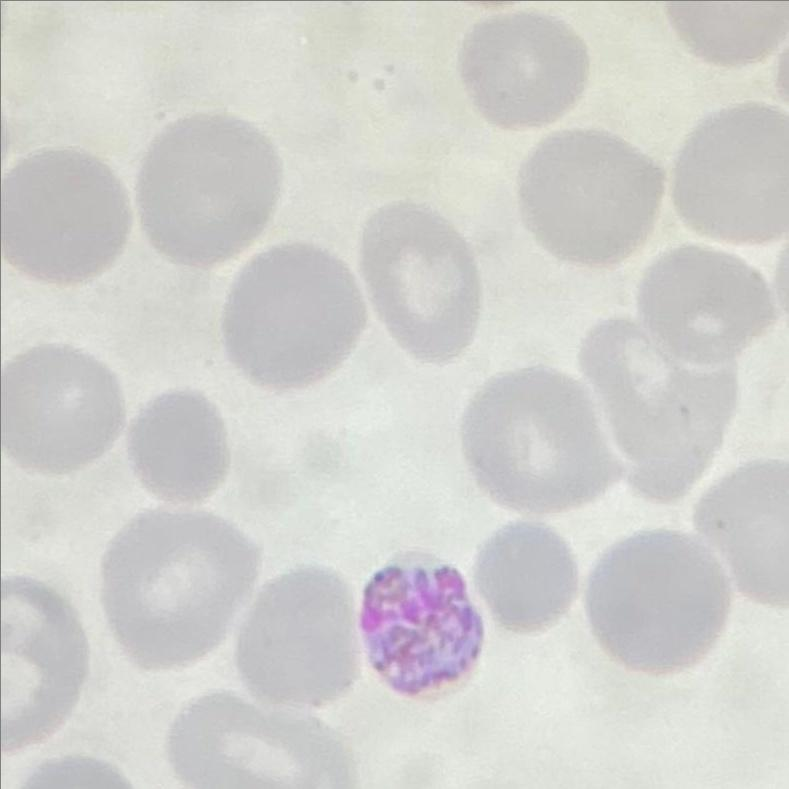Infected: (362, 543, 482, 704)
Uninfected: (102, 507, 258, 677), (456, 363, 617, 510), (138, 107, 281, 265), (162, 681, 365, 789), (222, 245, 370, 393), (350, 199, 478, 369), (516, 123, 663, 264), (588, 529, 735, 665), (0, 149, 129, 285), (238, 565, 361, 705), (631, 359, 743, 512), (672, 101, 789, 244), (0, 341, 122, 474), (638, 243, 773, 356), (462, 9, 593, 123), (694, 457, 789, 614), (0, 579, 83, 748), (592, 321, 689, 460), (128, 385, 231, 500), (478, 521, 574, 633)
